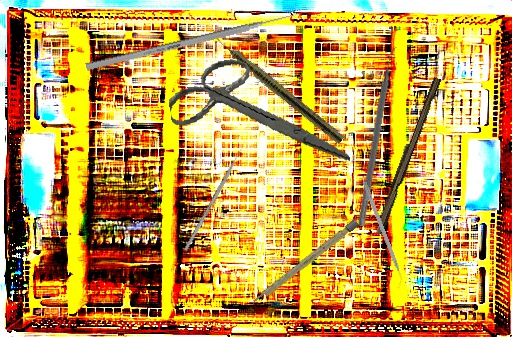Chopper: (356, 180, 407, 290)
Handpiece: (205, 27, 347, 146)
Iris Scissors: (163, 43, 351, 189)
Pusher: (85, 8, 306, 72), (183, 141, 248, 251)
Scalpel Handle: (372, 75, 442, 236), (249, 218, 360, 308)
Spatula Surgical: (357, 45, 401, 228)
